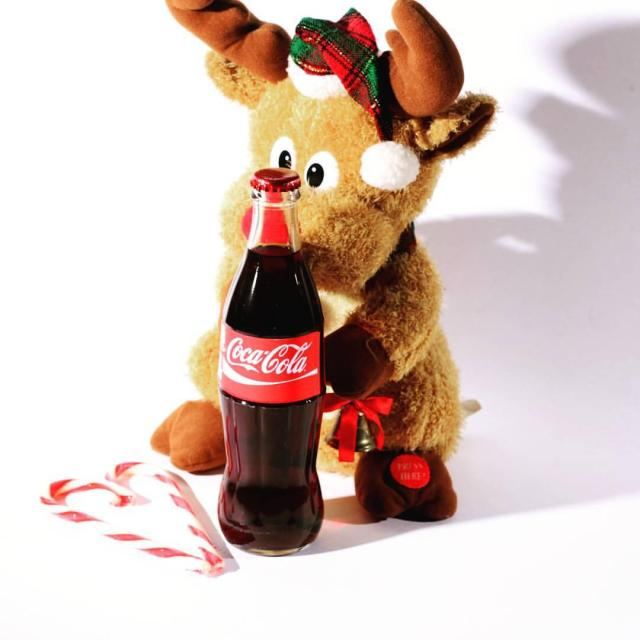coca-cola: (213, 166, 329, 559)
